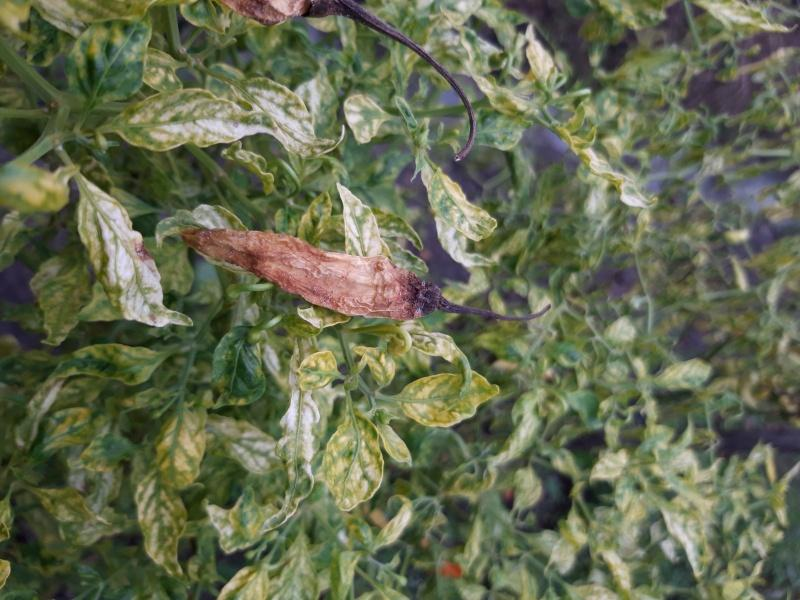antraknosa: (180, 224, 443, 322)
